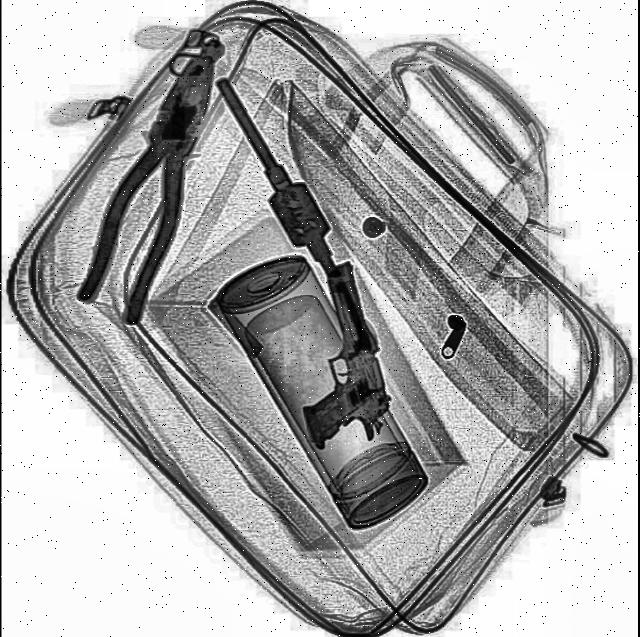Gun: (270, 254, 400, 456)
Pliers: (71, 36, 238, 327)
